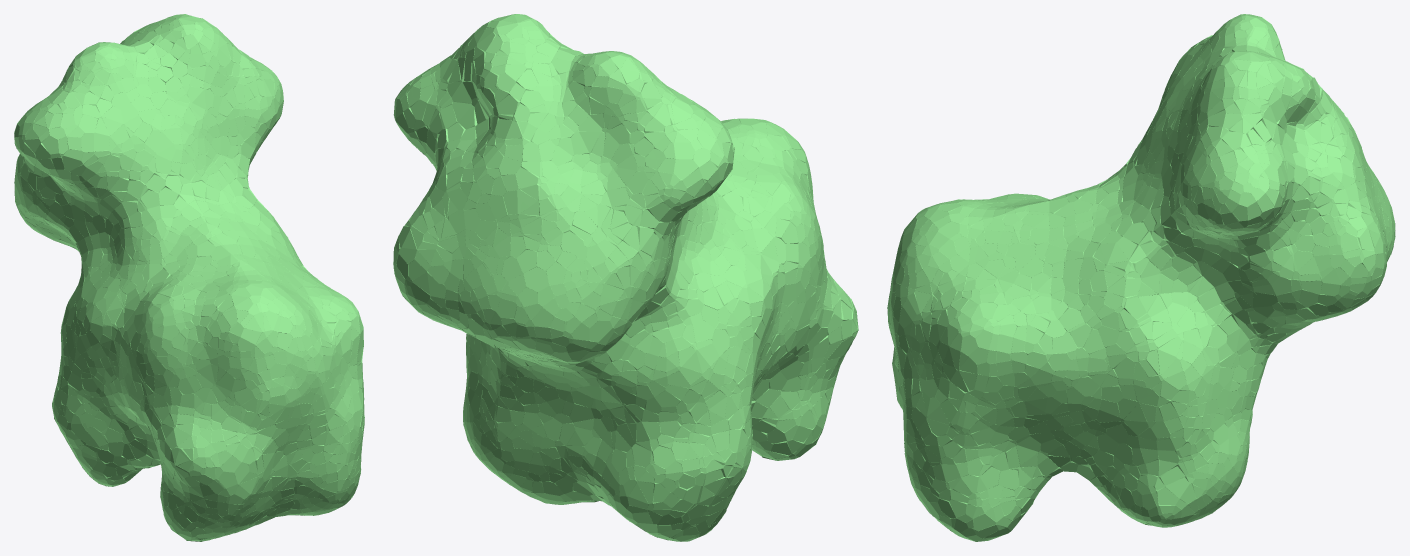
File: cow_2pct_vorolight.glb
The picture shows the model from 3 angles, left to right: view 1: azimuth 30°, elevation 25°; view 2: azimuth 150°, elevation 25°; view 3: azimuth 270°, elevation 25°; orthographic projection. The views are drawn at different scales.
Visible parts, largest first — view 1: shape10_normal10_cow_noise_2pct_polygon.obj; view 2: shape10_normal10_cow_noise_2pct_polygon.obj; view 3: shape10_normal10_cow_noise_2pct_polygon.obj.
Part boxes in pixels (left/top/right/bottom): shape10_normal10_cow_noise_2pct_polygon.obj: left=14, top=14, right=364, bottom=541; shape10_normal10_cow_noise_2pct_polygon.obj: left=393, top=14, right=858, bottom=541; shape10_normal10_cow_noise_2pct_polygon.obj: left=887, top=14, right=1395, bottom=541.
Size of the model in its own units: 0.9411 by 1.44 by 1.39.
